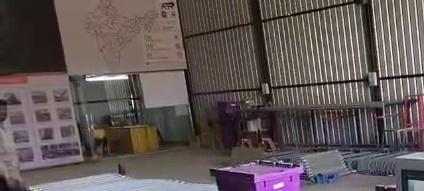box: (210, 162, 302, 190), (377, 185, 396, 190)
